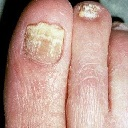Nail Fungal Infection: (22, 22, 68, 46), (77, 4, 103, 23)
